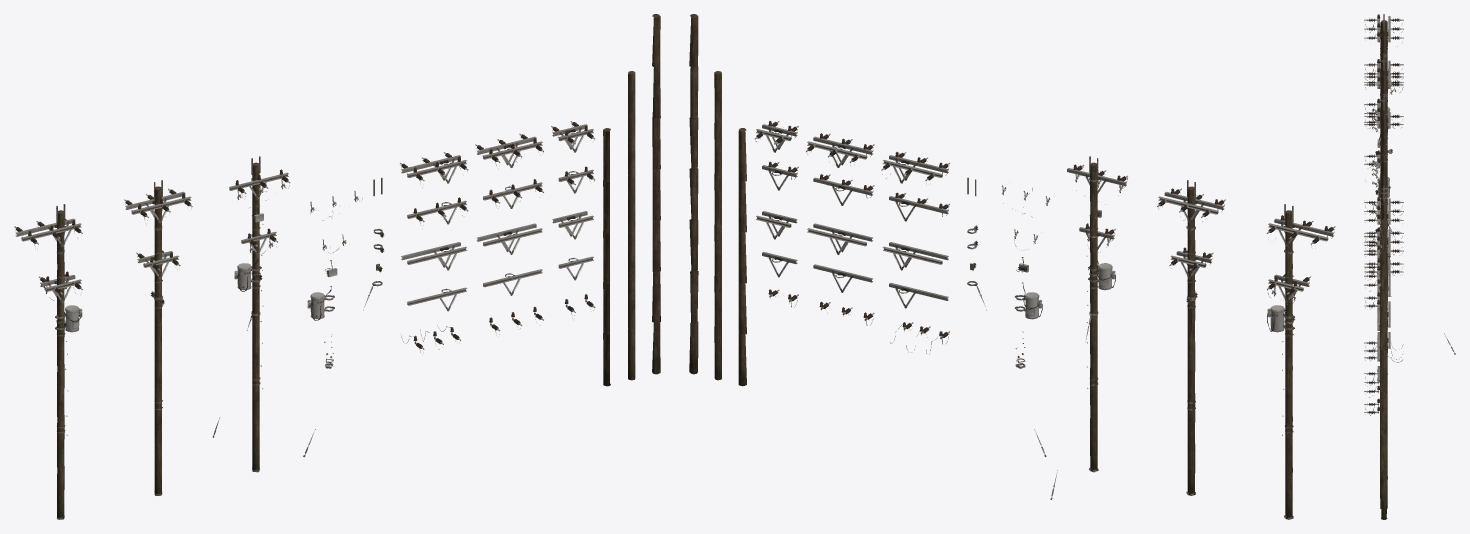
File: modular_electricity_poles.glb
3 renders of one model, left to right at view 1: azimuth 30°, elevation 25°; view 2: azimuth 150°, elevation 25°; view 3: azimuth 270°, elevation 25°, orthographic. The views are drawn at different scales.
Visible parts, largest first — view 1: pole_large, pole, preset_03_pole, preset_02_pole, preset_01_pole, pole_small, connection_large_01, connection_large_offset_01, preset_02_connection_large_01, preset_03_connection_large_offset_01, support_large_01, support_large_offset_01; view 2: pole_large, pole, preset_02_pole, preset_01_pole, preset_03_pole, pole_small, connection_large_offset_01, connection_large_01, preset_02_connection_large_01, preset_03_connection_large_offset_01, support_large_01, support_large_offset_01; view 3: pole_large, preset_01_pole, pole, preset_03_connection_large_offset_01, connection_large_01, preset_02_connection_large_01, connection_large_offset_01, preset_03_pole, preset_02_pole, connection_small_01, preset_01_connection_large_02, preset_02_connection_small_01 (+9 smaller).
Part boxes in pixels (x1,y1,x2,y2): pole_large: [652, 14, 660, 374]; pole: [628, 71, 635, 380]; preset_03_pole: [57, 210, 64, 519]; preset_02_pole: [154, 186, 161, 495]; preset_01_pole: [252, 162, 259, 471]; pole_small: [603, 128, 610, 386]; connection_large_01: [475, 133, 543, 167]; connection_large_offset_01: [399, 152, 468, 183]; preset_02_connection_large_01: [124, 188, 192, 223]; preset_03_connection_large_offset_01: [14, 218, 82, 246]; support_large_01: [476, 223, 542, 254]; support_large_offset_01: [401, 242, 467, 270]; pole_large: [689, 14, 698, 374]; pole: [714, 71, 721, 380]; preset_02_pole: [1187, 186, 1195, 495]; preset_01_pole: [1090, 162, 1097, 471]; preset_03_pole: [1285, 210, 1292, 518]; pole_small: [738, 128, 746, 386]; connection_large_offset_01: [881, 152, 949, 183]; connection_large_01: [806, 133, 874, 167]; preset_02_connection_large_01: [1157, 188, 1225, 222]; preset_03_connection_large_offset_01: [1266, 215, 1335, 246]; support_large_01: [807, 223, 873, 254]; support_large_offset_01: [882, 242, 948, 270]; pole_large: [1381, 219, 1387, 519]; preset_01_pole: [1380, 99, 1387, 245]; pole: [1380, 253, 1387, 508]; preset_03_connection_large_offset_01: [1364, 14, 1403, 48]; connection_large_01: [1364, 227, 1403, 256]; preset_02_connection_large_01: [1364, 59, 1403, 88]; connection_large_offset_01: [1364, 196, 1403, 231]; preset_03_pole: [1380, 20, 1387, 61]; preset_02_pole: [1380, 60, 1387, 101]; connection_small_01: [1364, 258, 1403, 282]; preset_01_connection_large_02: [1364, 98, 1387, 127]; preset_02_connection_small_01: [1364, 112, 1403, 134].
Size of the model in its own units: 13.12 by 7 by 1.96.
Materials: 2 (2 with a texture image).
